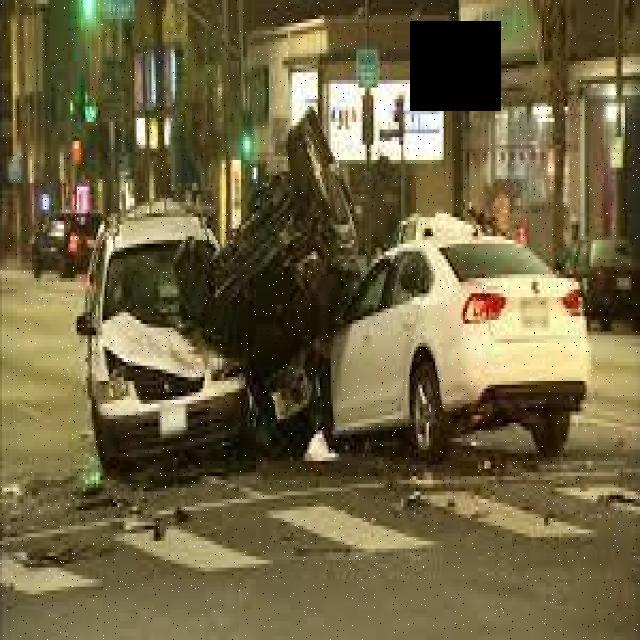severe: (80, 110, 590, 461)
